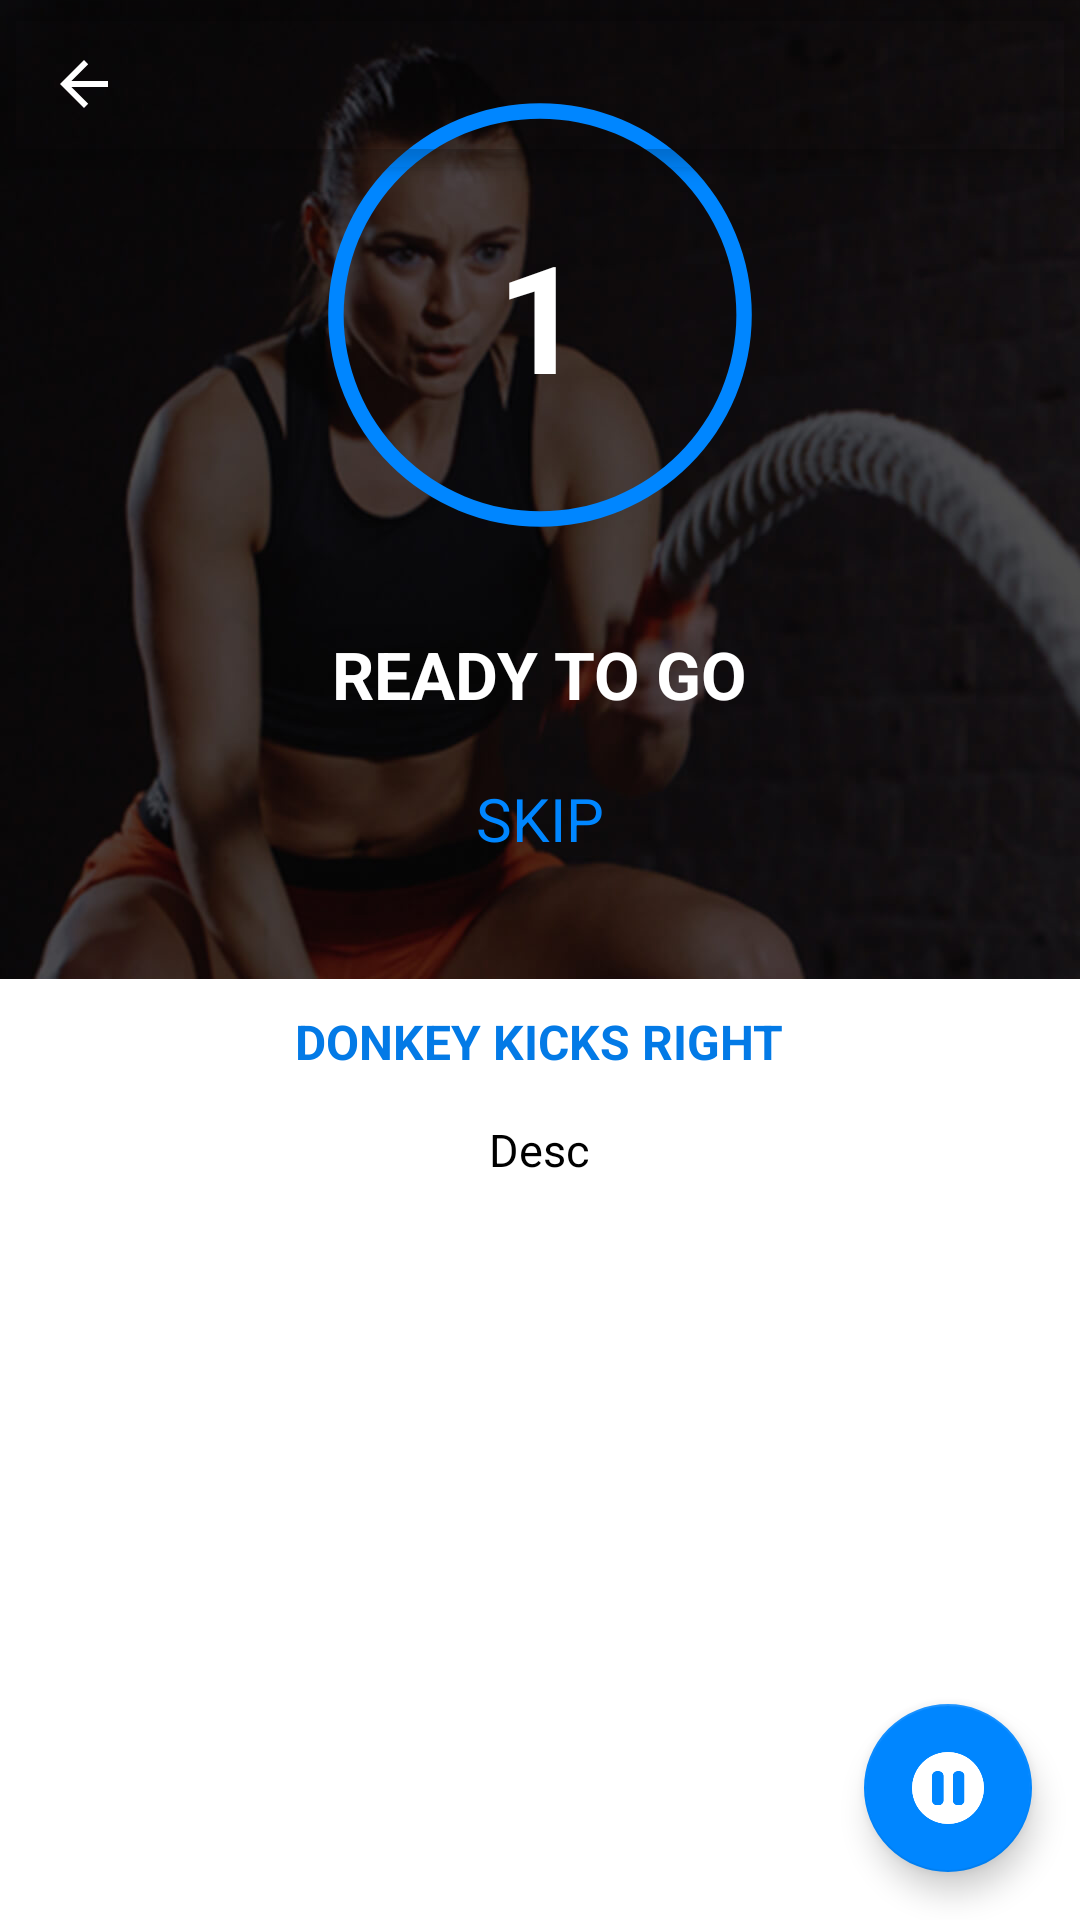

Screen size 1080w x 1920h. Icon name, then its center in pixels as (x,y):
pause: (948,1788)
